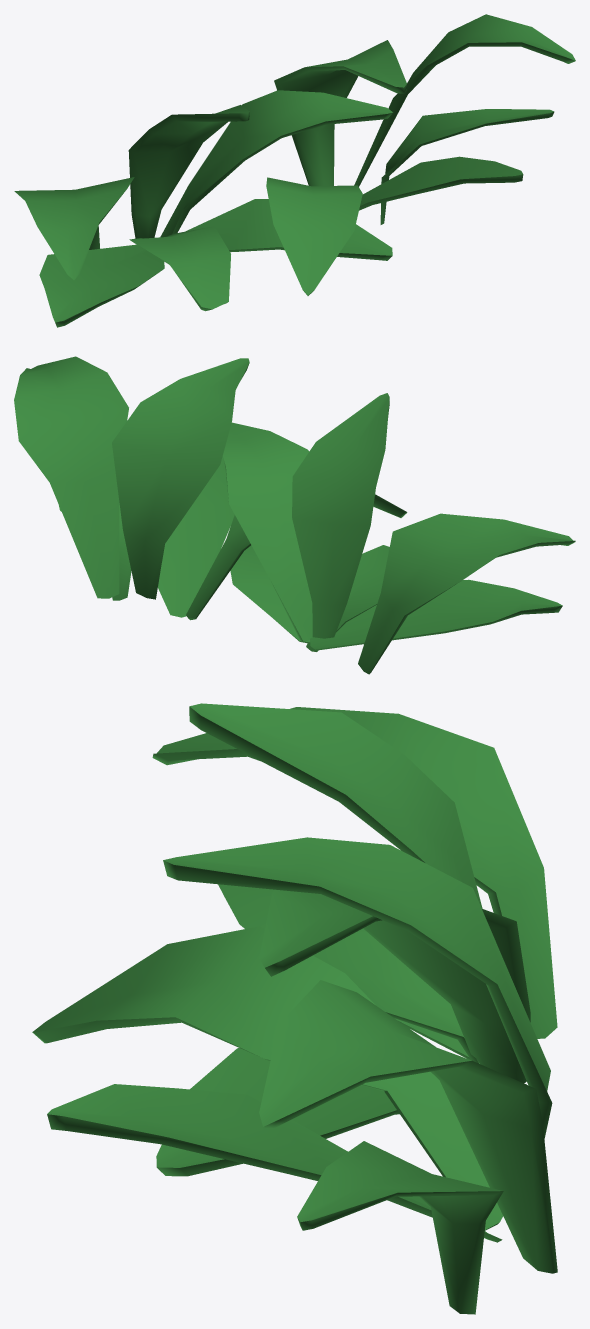
The model's file is Bush 04.FBX.
The picture shows the model from 3 angles, top to bottom: view 1: azimuth 30°, elevation 25°; view 2: azimuth 150°, elevation 25°; view 3: azimuth 270°, elevation 25°; orthographic projection. The views are drawn at different scales.
Parts seen in each view (by area): view 1: Bush 04; view 2: Bush 04; view 3: Bush 04.
Part boxes in pixels (x1=…): Bush 04: x1=14, y1=14, x2=575, y2=327; Bush 04: x1=14, y1=356, x2=575, y2=674; Bush 04: x1=32, y1=703, x2=557, y2=1314.
Bounding box in the file's own units: 554 × 210 × 242.
